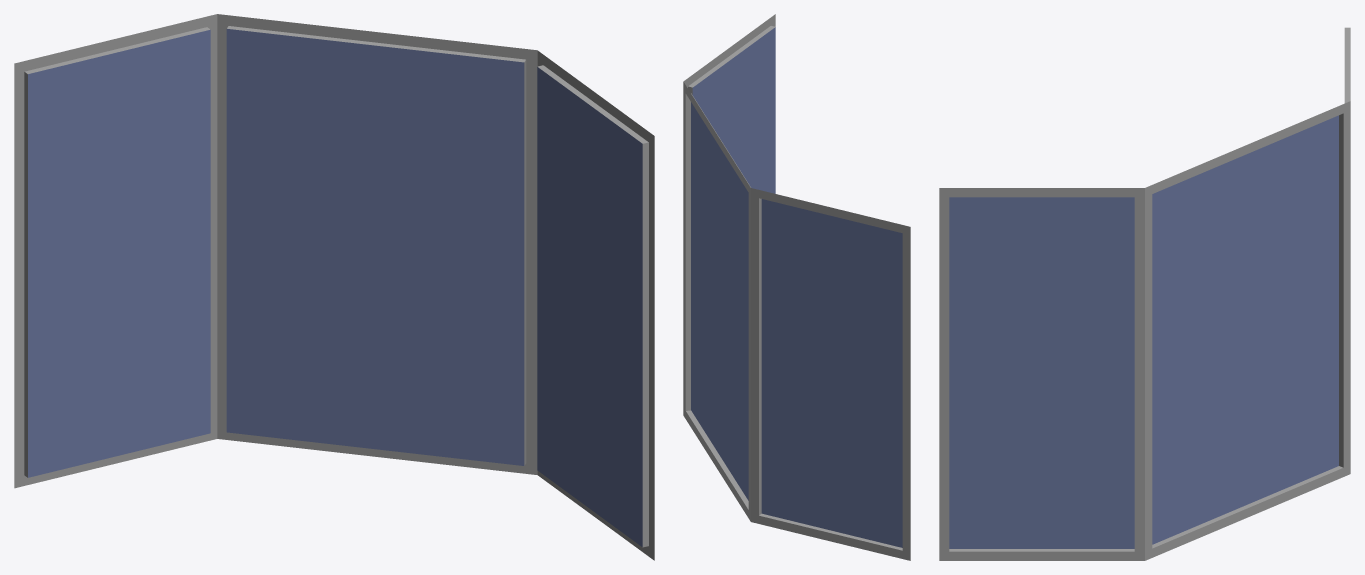
The model's file is CornerWall-Glass.fbx.
3 views of the same model, side by side, from view 1: azimuth 30°, elevation 25°; view 2: azimuth 150°, elevation 25°; view 3: azimuth 270°, elevation 25° (orthographic). The views are drawn at different scales.
Visible parts, largest first — view 1: CornerWallGlass; view 2: CornerWallGlass; view 3: CornerWallGlass.
Boxes of the visible parts, <box> form: CornerWallGlass: <box>14,14,654,560</box>; CornerWallGlass: <box>683,14,910,560</box>; CornerWallGlass: <box>939,27,1350,560</box>.
Size of the model in its own units: 1 by 1 by 1.
